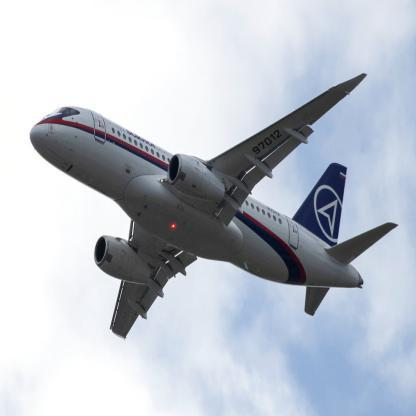CIV_Plane: (24, 70, 400, 342)
